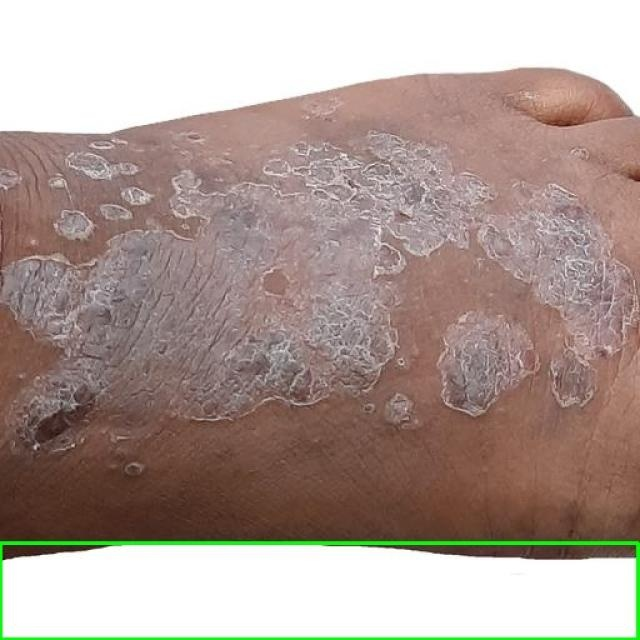Contact Dermatitis: (0, 542, 639, 639)
